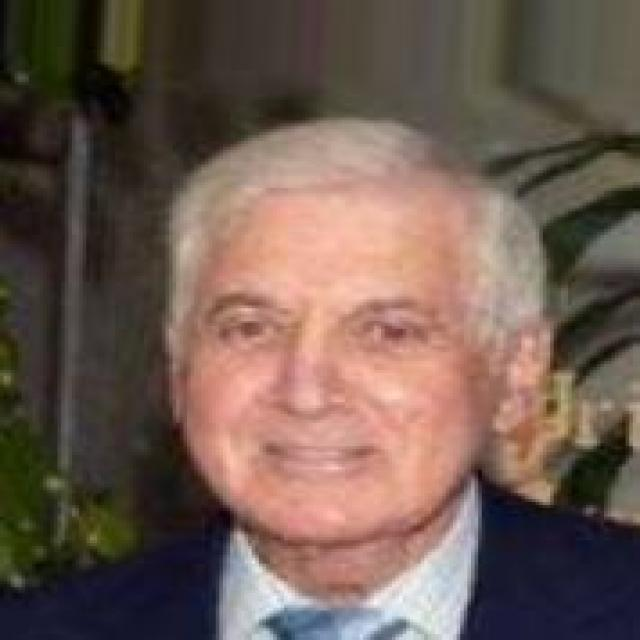nomask: (140, 109, 579, 546)
